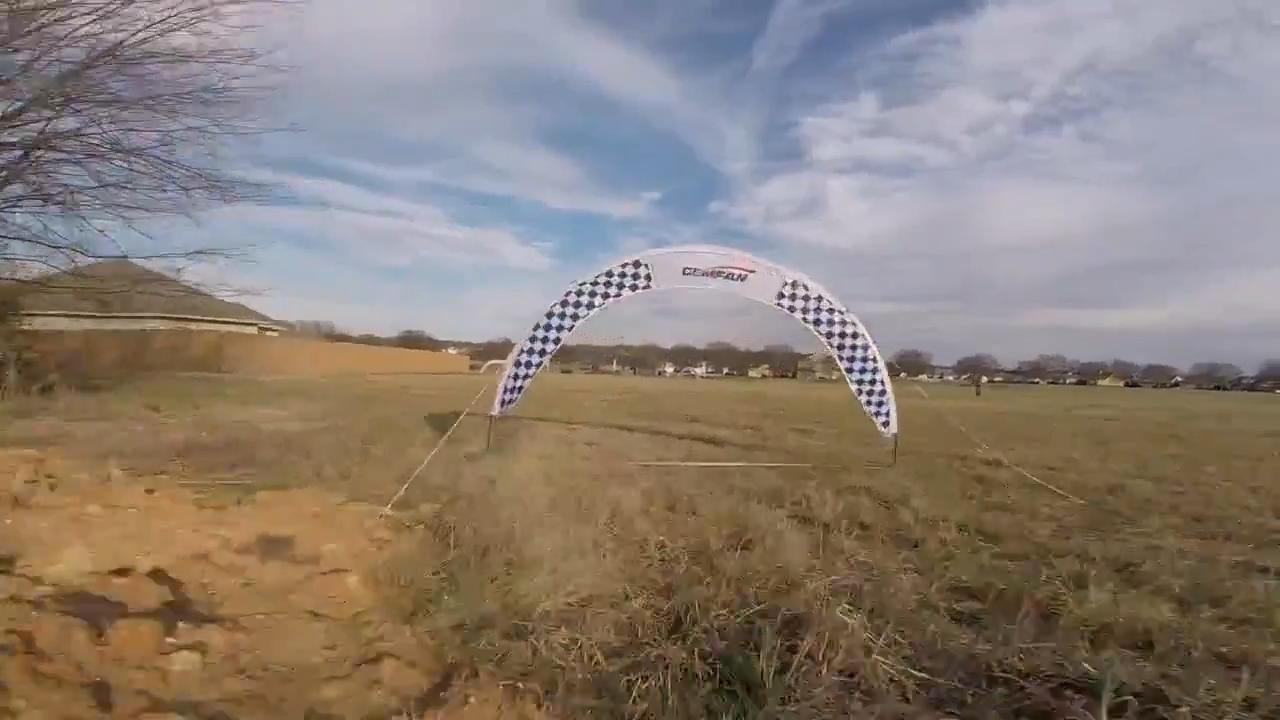gate: (492, 245, 903, 442)
